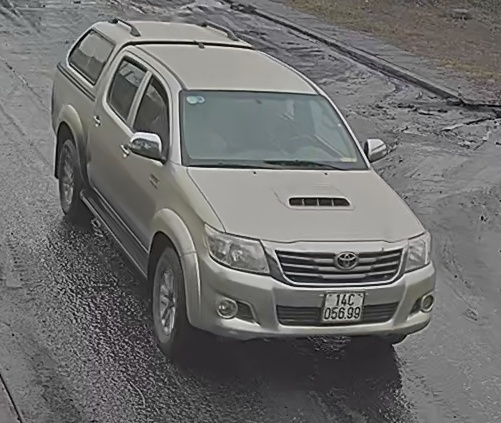vehicle plate: (316, 281, 366, 324)
